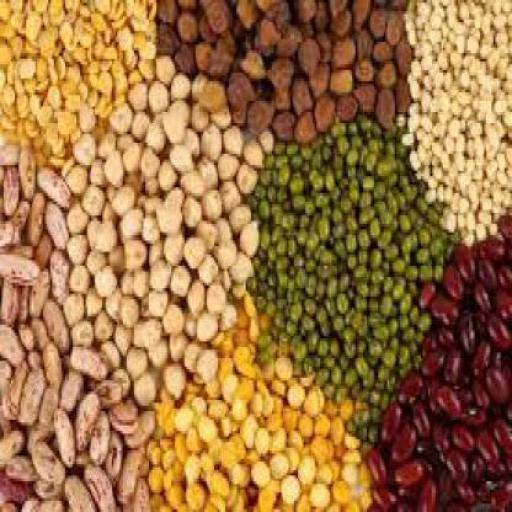biodegradable: (1, 0, 511, 511), (2, 53, 275, 509), (251, 114, 458, 442), (151, 286, 376, 510), (370, 209, 511, 510), (156, 0, 413, 140), (399, 0, 511, 242), (2, 0, 159, 162), (276, 22, 364, 126), (187, 134, 259, 249), (465, 251, 511, 426), (257, 442, 372, 509), (249, 394, 322, 493), (324, 305, 408, 389), (138, 447, 251, 509), (151, 411, 222, 490), (134, 322, 196, 405), (363, 8, 410, 114), (262, 145, 312, 238), (214, 375, 259, 471), (176, 247, 226, 333), (332, 157, 398, 221), (317, 266, 354, 375), (220, 316, 262, 405), (142, 128, 192, 198), (156, 178, 201, 255), (371, 227, 422, 294), (146, 8, 232, 47), (446, 408, 488, 484), (413, 100, 463, 157), (454, 154, 505, 207), (213, 33, 285, 70), (466, 28, 500, 98), (153, 78, 188, 131), (70, 344, 112, 386), (492, 401, 511, 489), (55, 403, 80, 467), (455, 115, 489, 162), (24, 361, 49, 423), (118, 448, 147, 501), (40, 162, 76, 204), (86, 462, 118, 509), (78, 388, 103, 445), (259, 230, 281, 294), (394, 455, 434, 490), (445, 59, 478, 101), (43, 300, 73, 346), (68, 470, 102, 510), (2, 249, 41, 283), (232, 67, 258, 118), (8, 358, 30, 414), (432, 288, 465, 325), (395, 414, 422, 459), (128, 406, 156, 448), (368, 442, 394, 487), (402, 372, 436, 406), (374, 478, 411, 509), (52, 246, 72, 303), (449, 241, 478, 280), (486, 174, 510, 221), (443, 341, 468, 386), (292, 73, 317, 118), (28, 187, 47, 246), (2, 358, 16, 437), (38, 438, 67, 476), (106, 426, 125, 484), (48, 199, 73, 243), (2, 318, 28, 360), (45, 336, 65, 389), (442, 442, 469, 481), (80, 178, 110, 213), (414, 470, 440, 510), (125, 472, 152, 510), (431, 384, 465, 414), (382, 398, 404, 444), (62, 366, 86, 408), (162, 360, 188, 398), (445, 262, 471, 300), (124, 232, 149, 271), (436, 14, 460, 54), (93, 406, 110, 462), (251, 92, 276, 130), (28, 420, 58, 450), (132, 369, 158, 403), (106, 145, 128, 185), (95, 308, 115, 350), (475, 428, 502, 459), (414, 400, 436, 437), (424, 344, 446, 381), (317, 89, 337, 129), (2, 428, 24, 464), (34, 266, 52, 310), (69, 196, 91, 232), (438, 465, 456, 509), (128, 342, 154, 372), (294, 454, 320, 484), (482, 0, 502, 39), (63, 291, 88, 322), (113, 182, 138, 213), (217, 36, 236, 76), (302, 36, 322, 74), (112, 95, 134, 129), (72, 316, 98, 344), (207, 72, 226, 110), (2, 279, 20, 319), (38, 226, 56, 266), (276, 106, 298, 138), (464, 202, 490, 229), (331, 64, 356, 92), (22, 146, 37, 192), (2, 474, 28, 500), (7, 454, 37, 476), (95, 381, 125, 403), (96, 216, 118, 246), (99, 336, 123, 363), (475, 255, 499, 282), (157, 50, 177, 82), (30, 423, 56, 447), (415, 278, 439, 304), (99, 260, 119, 291), (272, 445, 292, 476), (473, 280, 493, 311), (67, 232, 89, 260), (114, 366, 133, 398), (151, 76, 171, 106), (112, 412, 139, 434), (69, 160, 91, 187), (76, 130, 98, 156), (116, 180, 138, 206), (282, 474, 304, 500), (466, 454, 488, 480), (40, 392, 58, 423), (6, 174, 19, 216), (168, 482, 188, 509), (178, 42, 196, 72), (299, 112, 318, 140), (423, 331, 445, 355), (121, 208, 141, 234), (311, 298, 331, 324), (87, 283, 106, 310), (112, 240, 128, 272), (73, 263, 93, 288), (132, 316, 152, 341), (90, 244, 109, 270), (123, 298, 142, 324), (339, 92, 361, 114), (21, 282, 33, 322), (91, 154, 108, 182), (255, 428, 272, 456), (115, 398, 140, 417), (131, 81, 150, 106), (145, 148, 164, 173), (2, 216, 19, 243), (148, 118, 167, 142), (18, 319, 36, 344), (89, 216, 104, 246), (127, 140, 145, 165), (38, 476, 64, 493), (442, 324, 464, 344), (101, 132, 119, 156), (458, 479, 476, 503), (149, 465, 166, 489), (126, 168, 144, 190), (120, 269, 138, 291), (294, 334, 309, 360), (288, 297, 304, 321), (120, 320, 134, 346), (3, 143, 22, 162), (78, 443, 93, 467), (16, 196, 34, 215), (15, 243, 35, 260), (246, 412, 259, 438), (227, 372, 242, 394), (151, 439, 164, 464), (175, 459, 188, 484), (201, 39, 214, 64), (119, 132, 136, 151), (45, 494, 65, 510), (106, 179, 122, 199), (246, 479, 259, 503), (36, 316, 50, 338), (138, 269, 150, 293), (30, 346, 45, 364), (304, 308, 316, 330), (288, 232, 300, 254), (348, 230, 360, 252), (153, 490, 166, 509), (321, 313, 333, 333), (26, 492, 39, 510), (168, 462, 178, 484), (66, 157, 76, 177), (280, 232, 290, 252), (302, 294, 316, 308), (105, 202, 117, 218), (61, 350, 71, 369), (302, 266, 312, 285), (2, 498, 19, 509), (296, 248, 307, 264), (2, 166, 8, 192), (15, 224, 26, 238)
